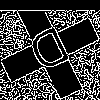D: (25, 25, 78, 81)
